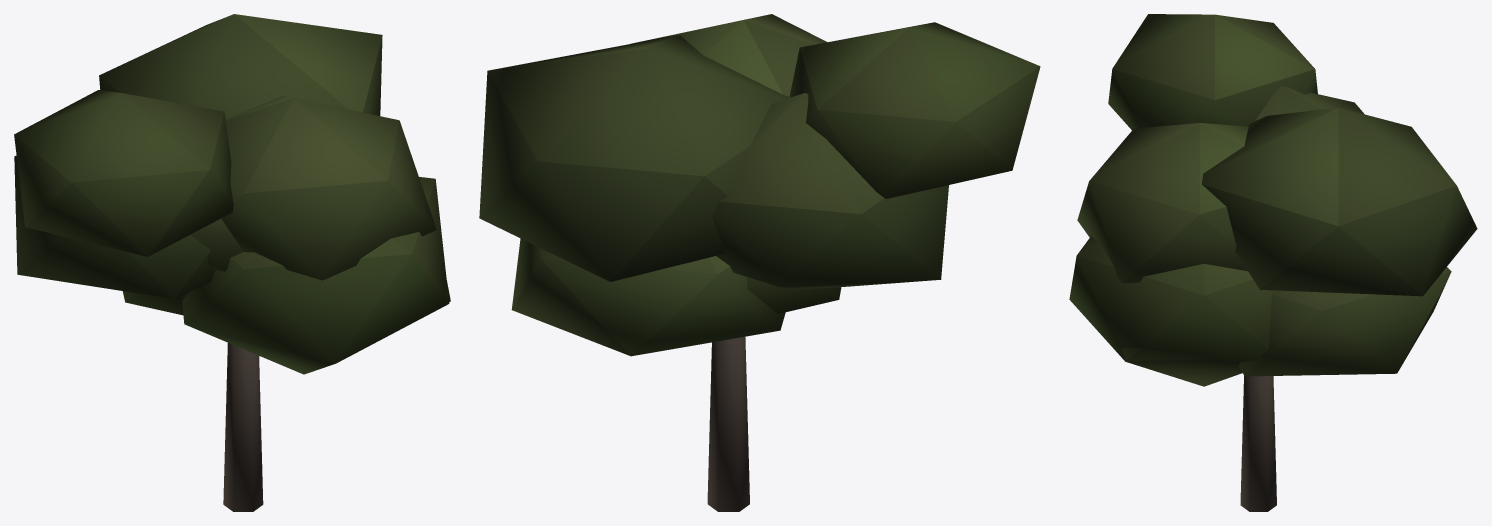
Rendered from env_holm_oak.glb.
3 views of the same model, side by side, from view 1: azimuth 30°, elevation 25°; view 2: azimuth 150°, elevation 25°; view 3: azimuth 270°, elevation 25° (orthographic). The views are drawn at different scales.
Parts seen in each view (by area): view 1: env_holm_oak; view 2: env_holm_oak; view 3: env_holm_oak.
Part boxes in pixels (left/top/right/bottom): env_holm_oak: left=14, top=14, right=450, bottom=511; env_holm_oak: left=479, top=14, right=1040, bottom=511; env_holm_oak: left=1069, top=14, right=1477, bottom=511.
Bounding box in the file's own units: 9.34 × 9.76 × 8.48.
